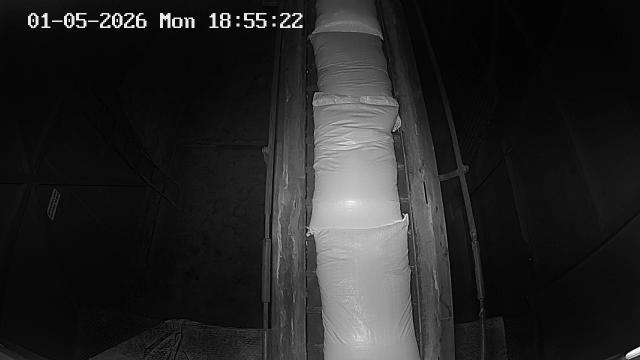bag: (313, 214, 421, 360), (309, 95, 402, 226), (310, 34, 394, 94), (309, 0, 384, 38)
